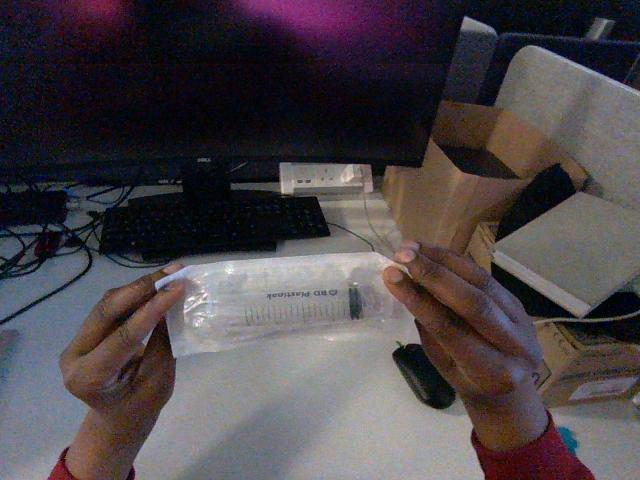syringe: (156, 253, 410, 356)
